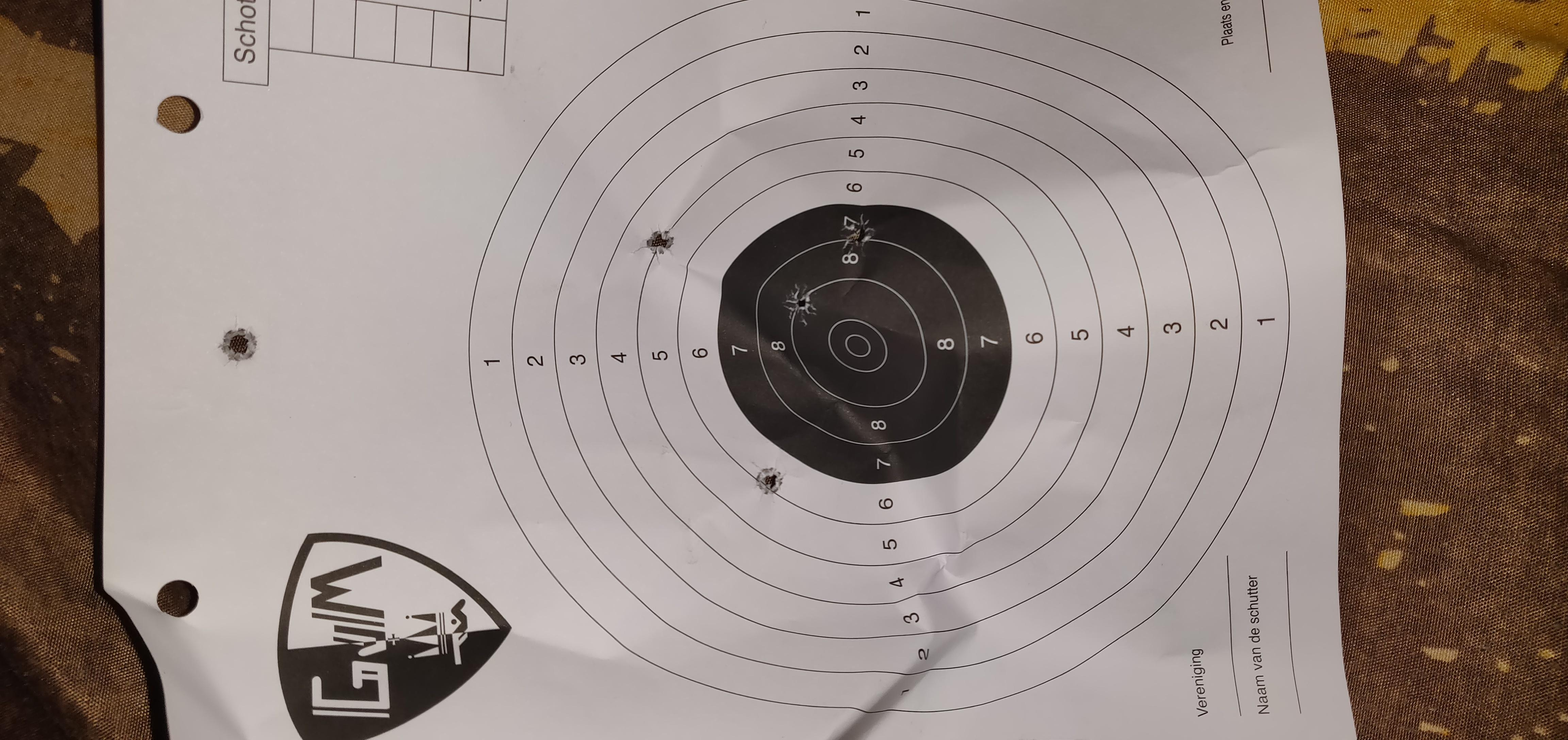hole: (1010, 299, 1095, 319), (804, 102, 883, 123), (1035, 396, 1110, 415), (881, 370, 966, 386), (513, 355, 585, 371)
